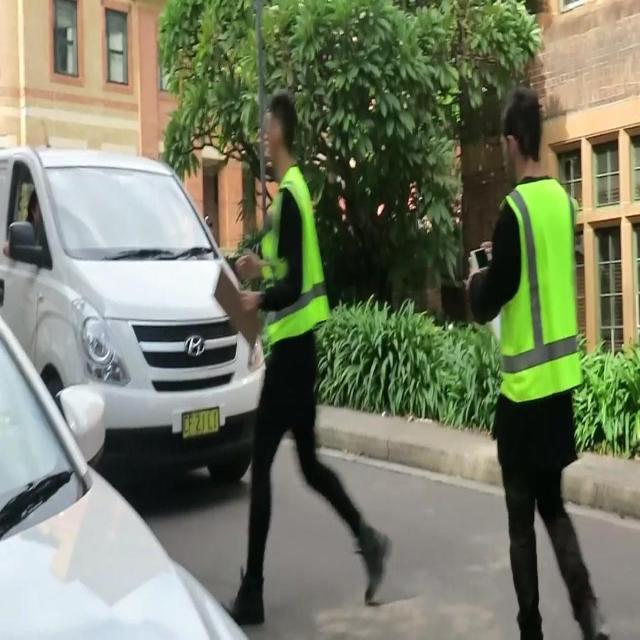Vest: (498, 177, 582, 400), (261, 162, 329, 346)
